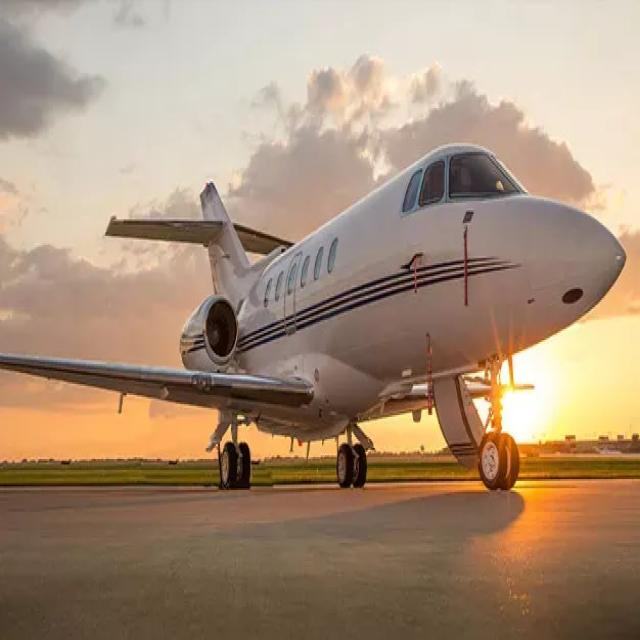jet: (0, 85, 637, 609)
